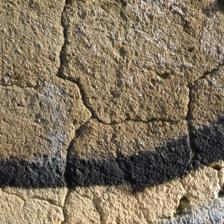Crack: (2, 0, 95, 102), (23, 66, 91, 155), (0, 16, 89, 53), (98, 47, 124, 165)
